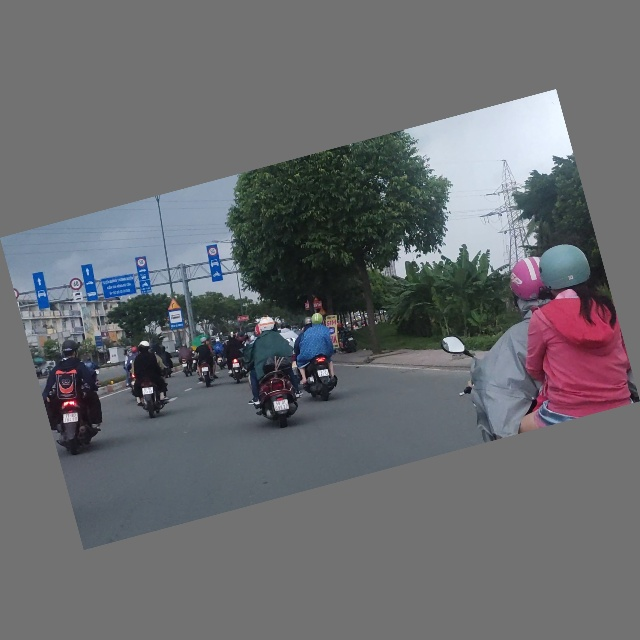I.434a: (166, 309, 185, 331)
P.127*50: (135, 257, 147, 269), (207, 247, 218, 258)
P.127*60: (68, 277, 83, 292)
S.505a*Xe tai va cong: (71, 291, 85, 305)
W.201b: (164, 297, 182, 313)
